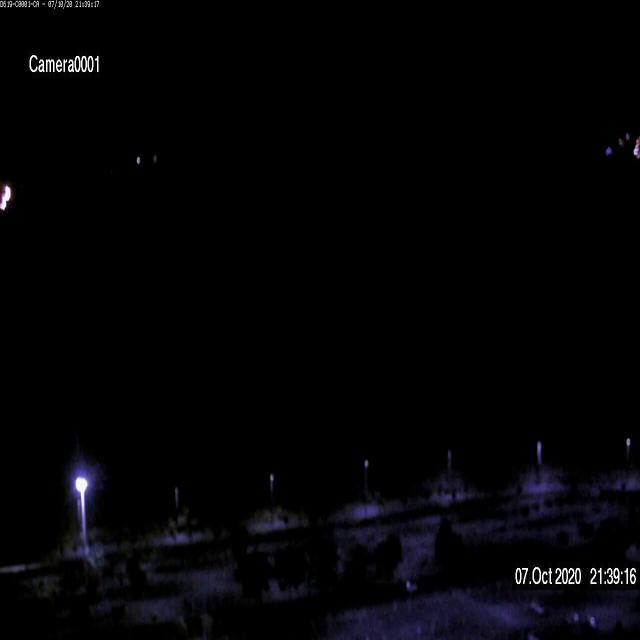Fire: (0, 178, 13, 210)
